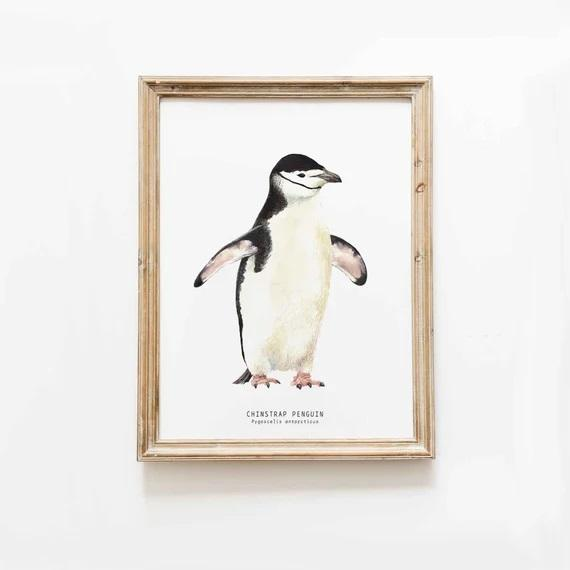chinstrap: (155, 109, 405, 447)
